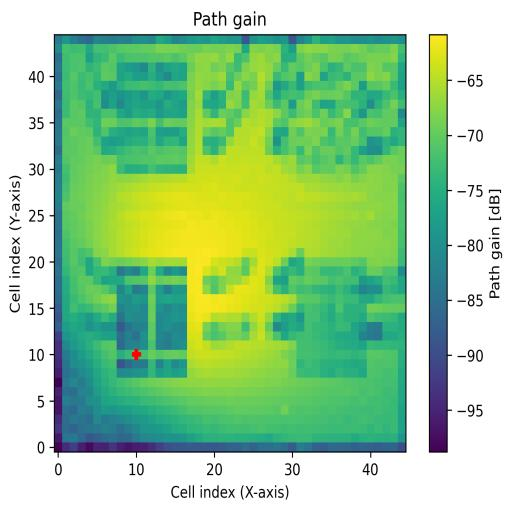Concrete: (296, 53, 367, 173)
Glass: (117, 62, 187, 175)
Metal: (297, 258, 367, 378)
Wood: (116, 258, 188, 379)
